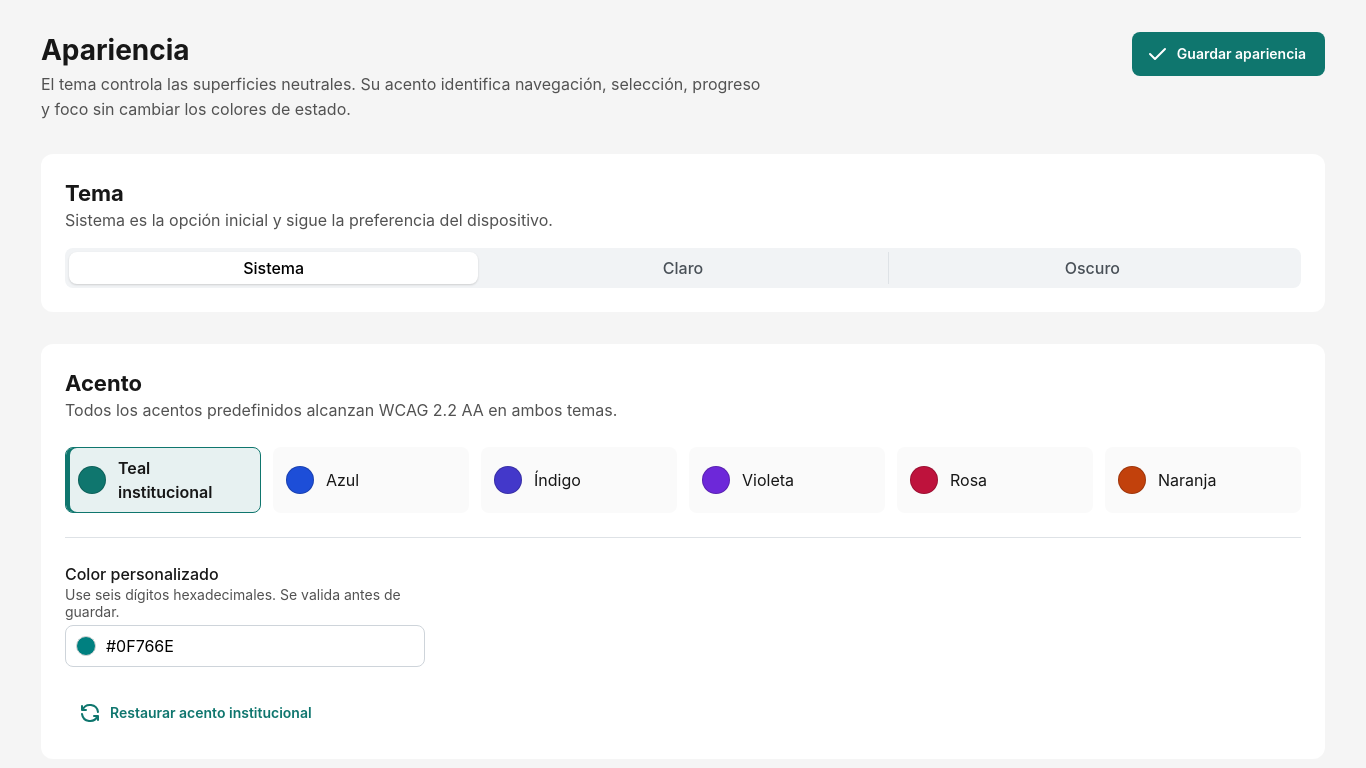
Scenario: AppearancePage › lee el perfil y guarda un acento válido con la versión esperada
Expected: the heading "Apariencia" is shown, [41, 33, 190, 67]
Click the button "Azul": [371, 480] box [273, 447, 469, 513]
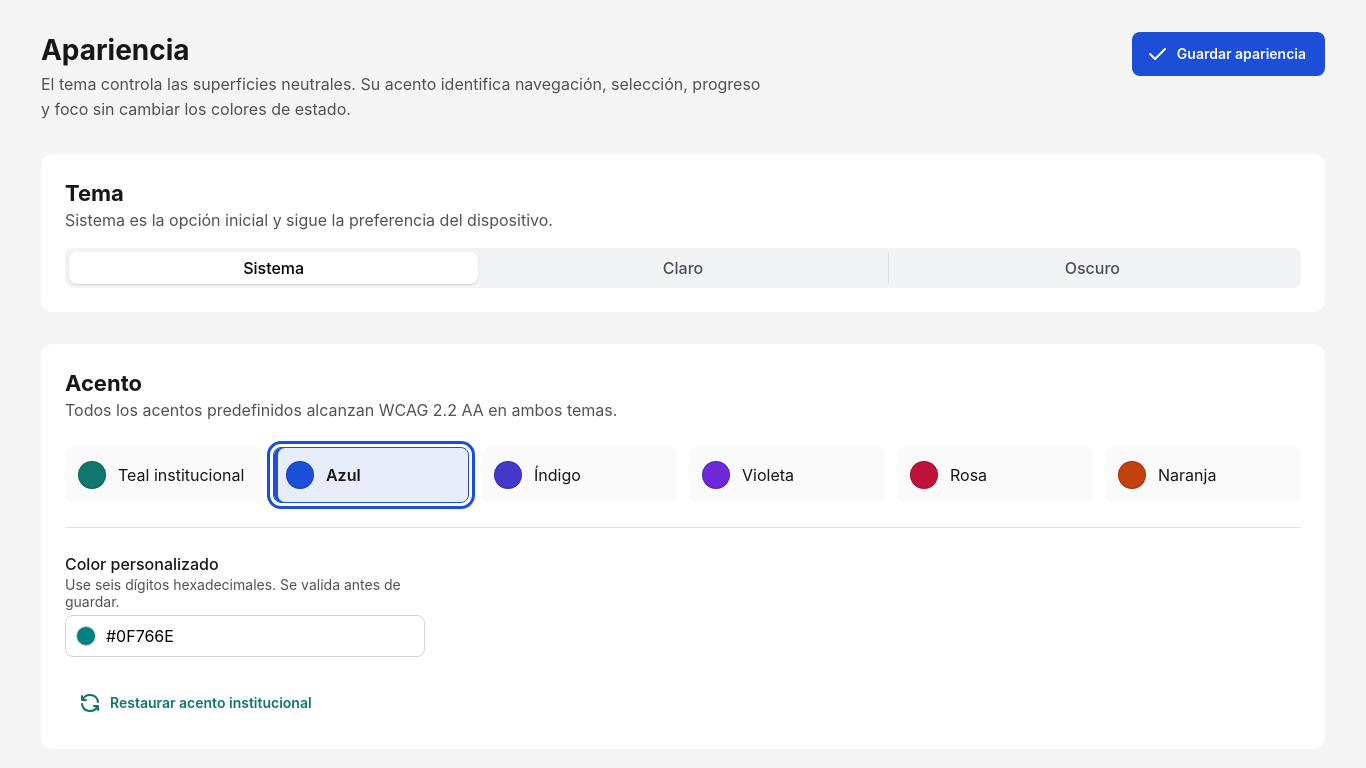
Click the text "Oscuro": [1092, 268] box [1065, 258, 1120, 278]
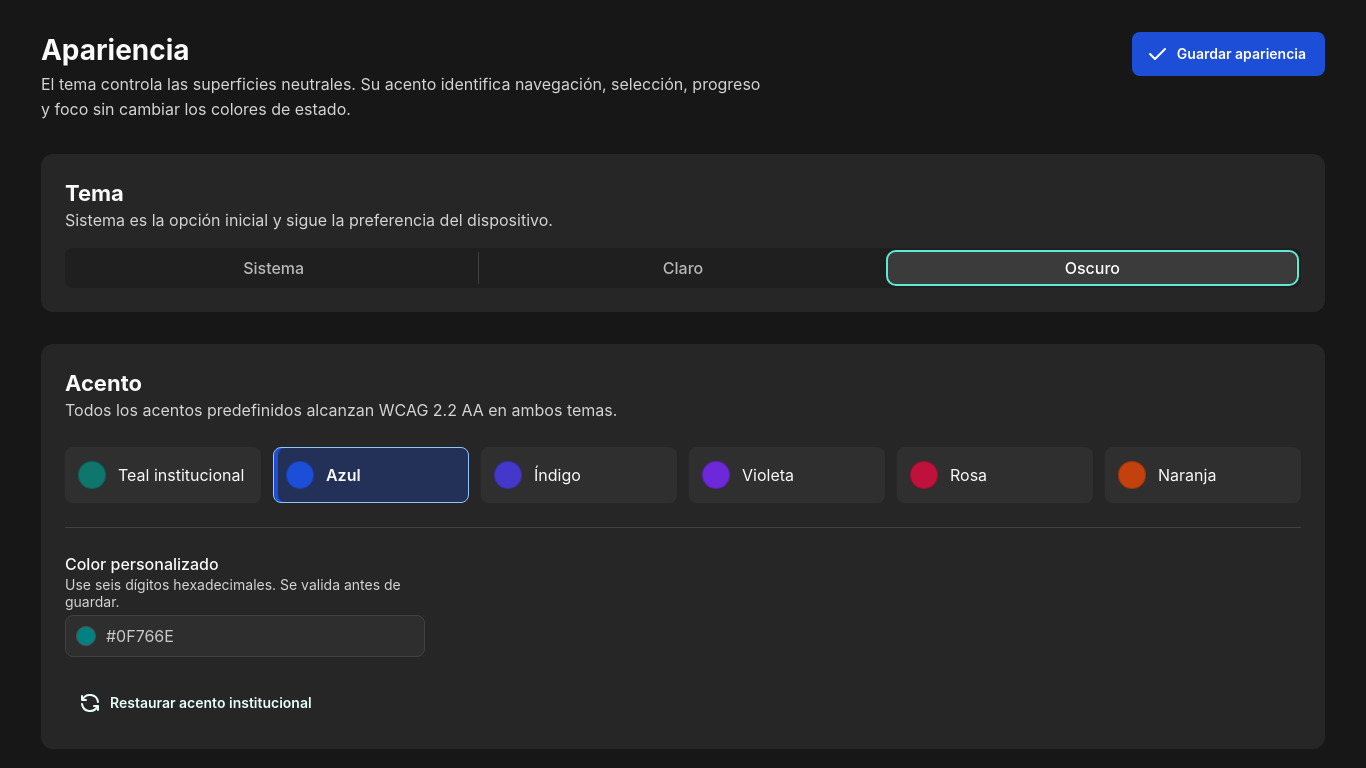
Click the button "Guardar apariencia": [1228, 54] box [1132, 32, 1325, 76]
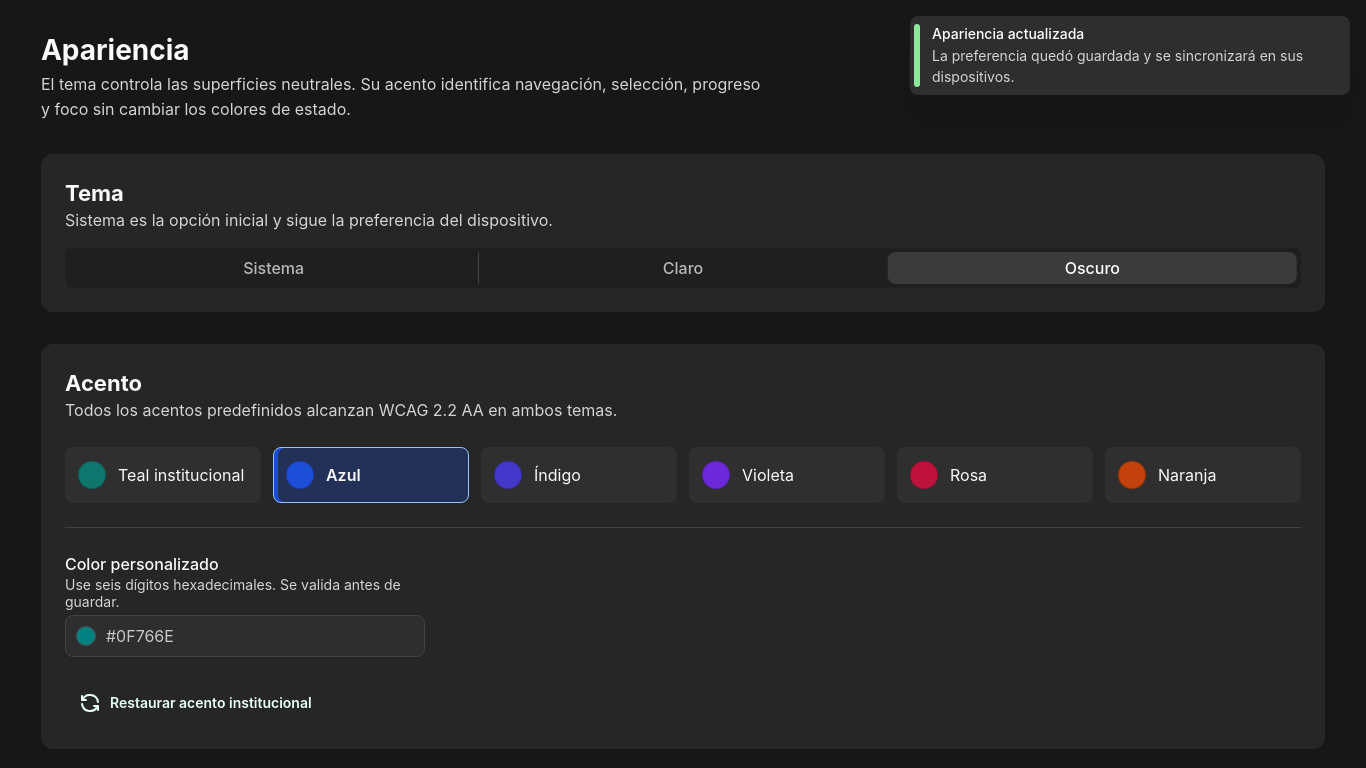
Expected: the text "quedó guardada" is shown, [932, 47, 1303, 85]
